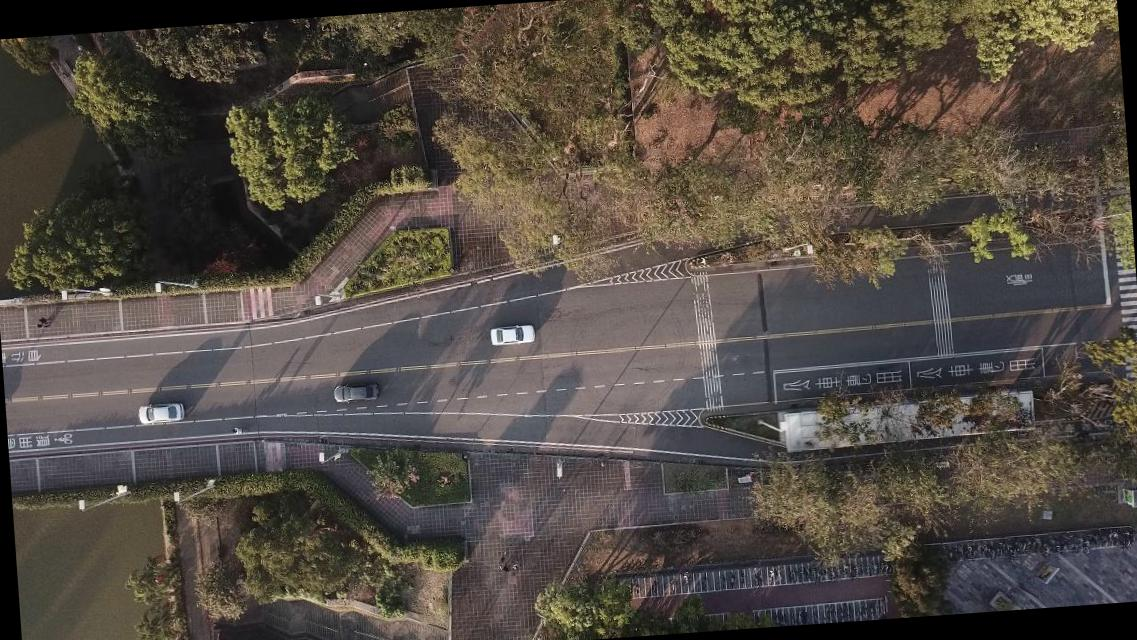vehicle: (137, 400, 185, 423), (332, 381, 378, 404), (488, 324, 534, 346)
